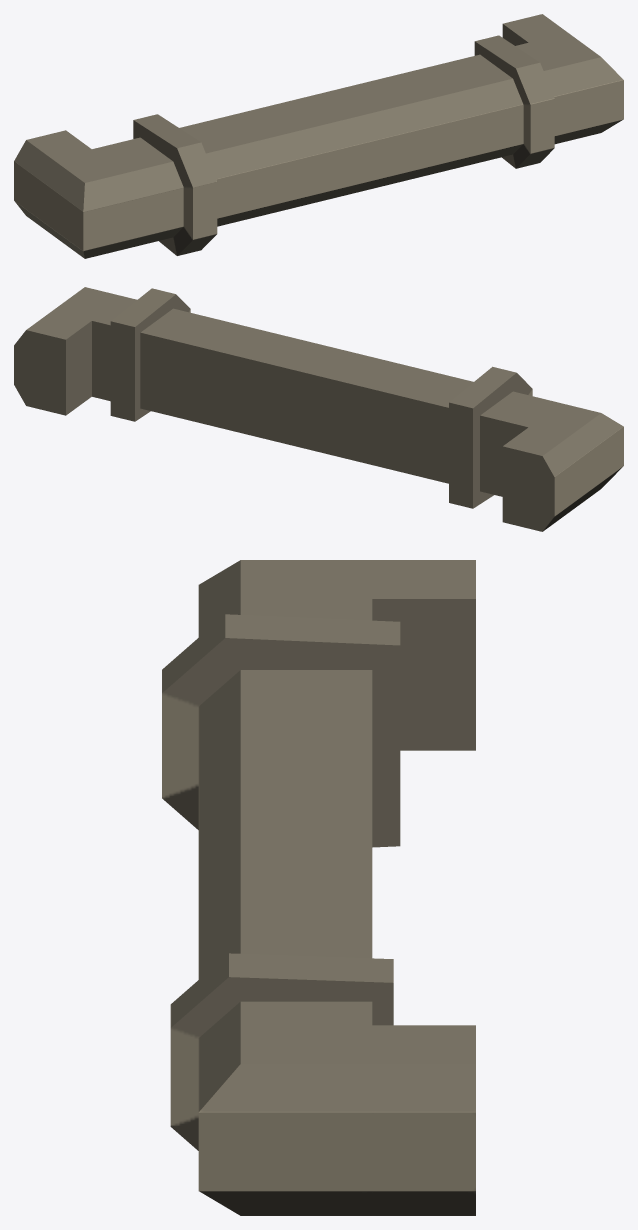
Rendered from WallPipe.glb.
3 views of the same model, one above another, from view 1: azimuth 30°, elevation 25°; view 2: azimuth 150°, elevation 25°; view 3: azimuth 270°, elevation 25° (orthographic). The views are drawn at different scales.
Visible parts, largest first — view 1: Cube.001; view 2: Cube.001; view 3: Cube.001.
Part boxes in pixels (x1,y1,x2,y2): Cube.001: (14,14,623,258); Cube.001: (14,287,623,531); Cube.001: (162,560,475,1215).
Bounding box in the file's own units: 1.58 × 0.3021 × 0.3983.
Materials: 1 (1 with a texture image).
